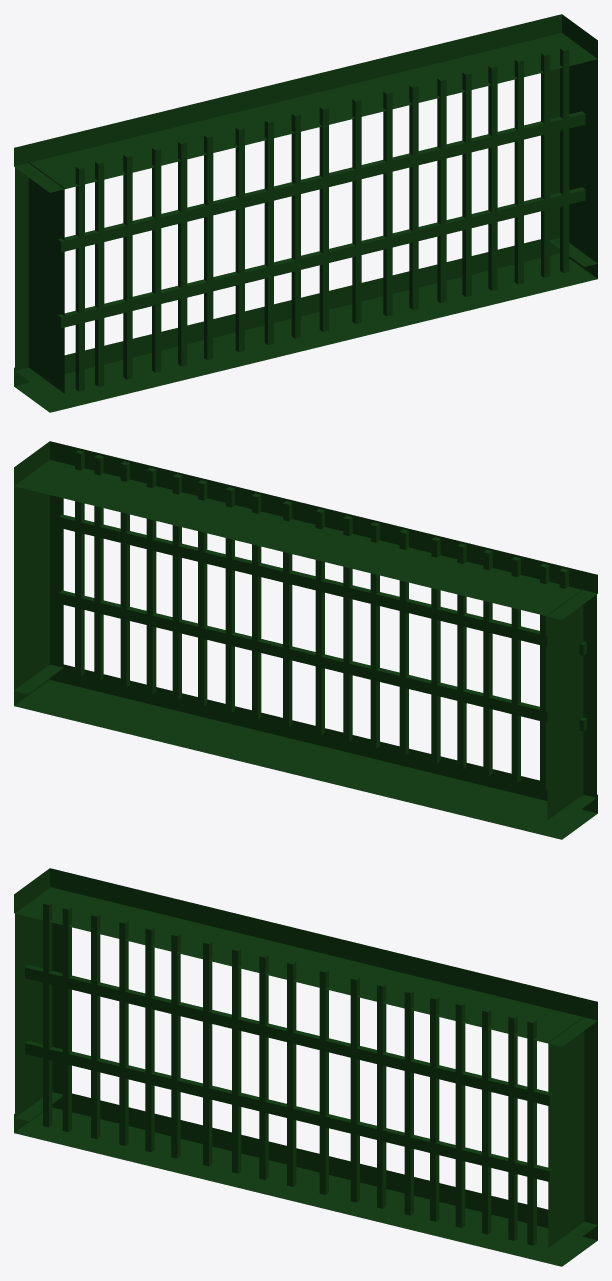
File: patio_004.glb
The picture shows the model from 3 angles, top to bottom: view 1: azimuth 30°, elevation 25°; view 2: azimuth 150°, elevation 25°; view 3: azimuth 330°, elevation 25°; orthographic projection.
Parts seen in each view (by area): view 1: Patio_004; view 2: Patio_004; view 3: Patio_004.
Part boxes in pixels (<box>): Patio_004: <box>14,14,597,412</box>; Patio_004: <box>14,441,597,839</box>; Patio_004: <box>14,868,597,1266</box>.
Bounding box in the file's own units: 17.6 × 7.33 × 2.
